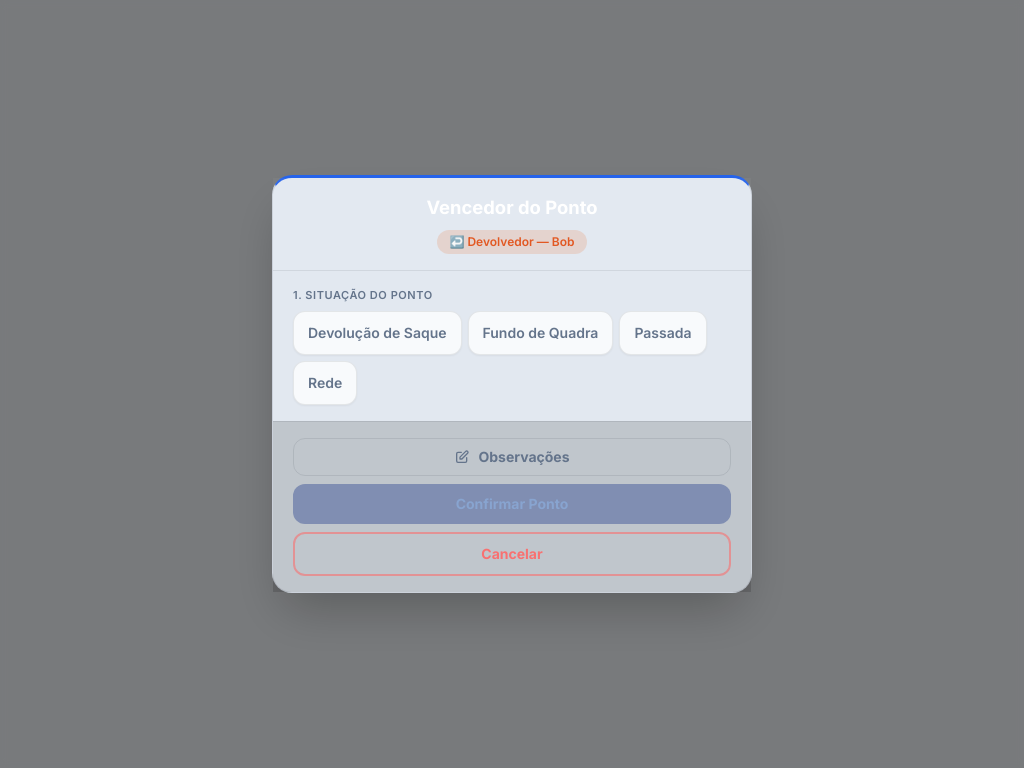
Scenario: PointDetailsModal — Characterization Tests › Golpe selection flow › shows vfh, vbh, smash for passada + non-winner
Expected: the text "1. Situação do Ponto" is shown, [293, 288, 433, 302]
Click the button "Passada".
click(663, 333)  # box [619, 311, 707, 355]
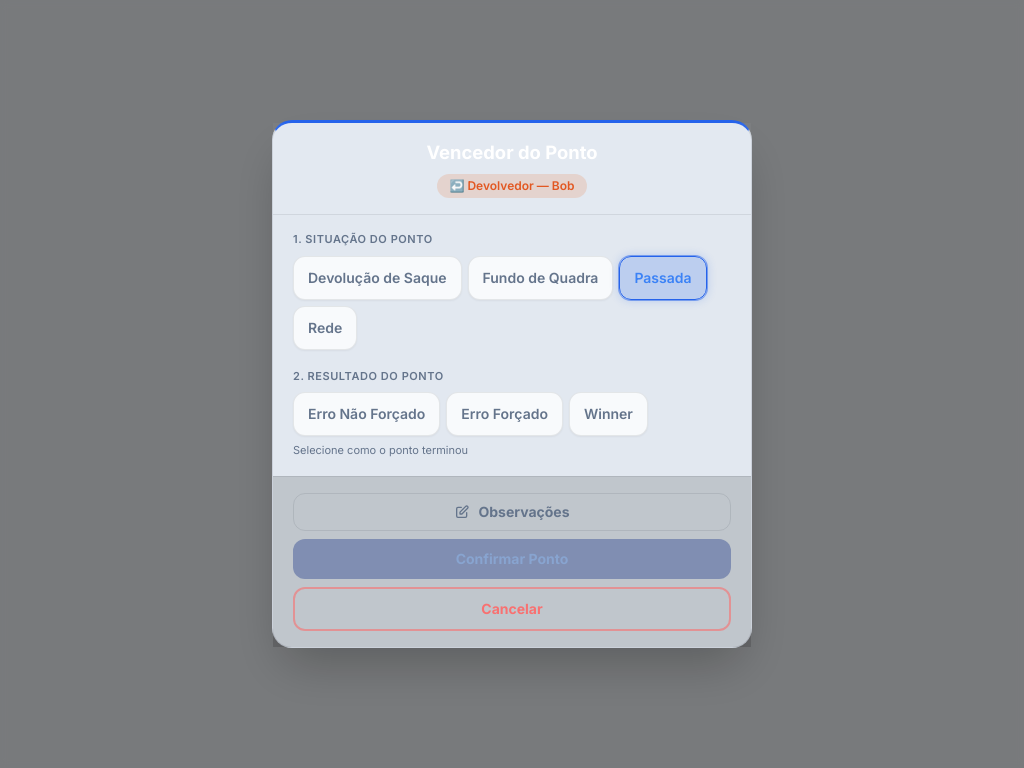
Expected: the text "2. Resultado do Ponto" is shown, [293, 369, 444, 383]
Click the button "Erro Não Forçado".
click(367, 414)  # box [293, 392, 440, 436]
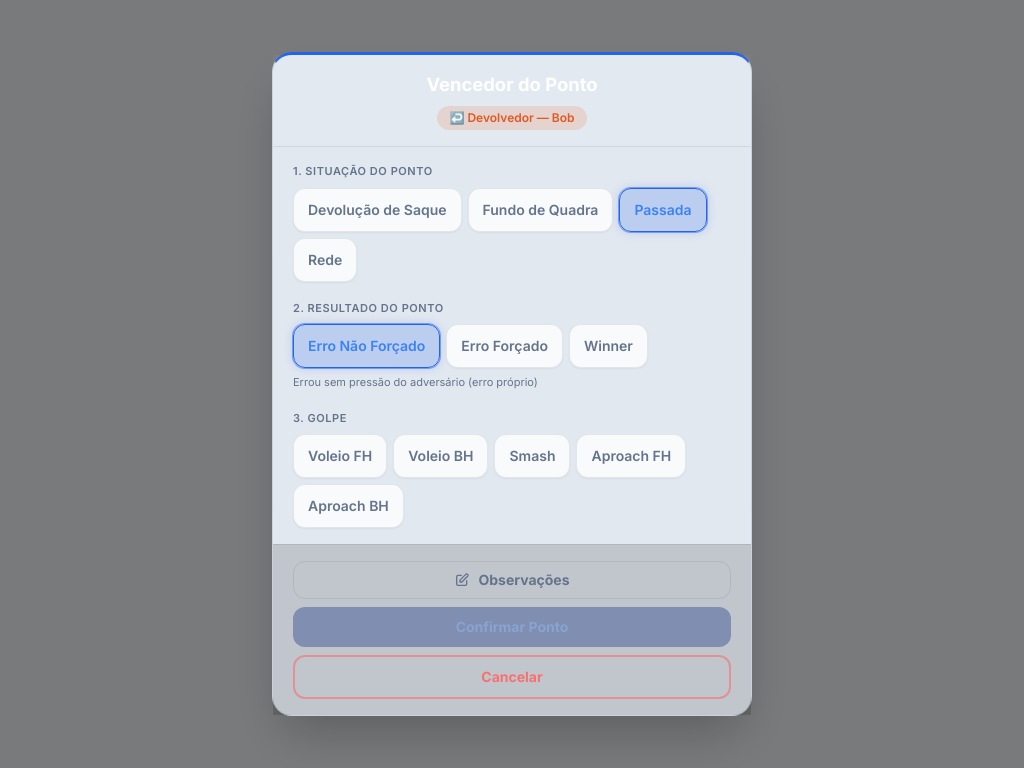
Expected: the text "3. Golpe" is shown, [293, 411, 347, 425]
Expected: the number of buttons "Voleio FH" is 3, [293, 434, 387, 478]; [393, 434, 488, 478]; [494, 434, 570, 478]
